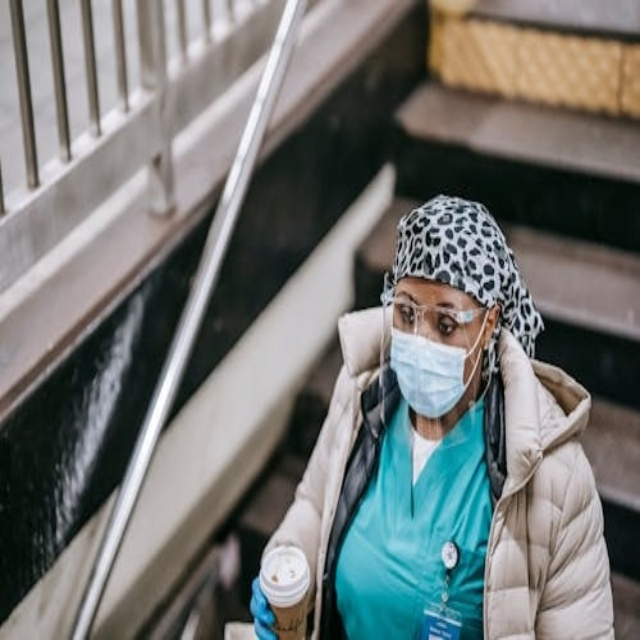Gafas: (391, 296, 489, 338)
Guantes: (250, 576, 281, 640)
Mascara: (391, 304, 487, 418)
